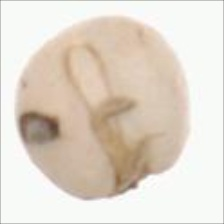L5: (61, 42, 131, 161), (108, 141, 170, 198)
L6: (11, 13, 197, 204)
